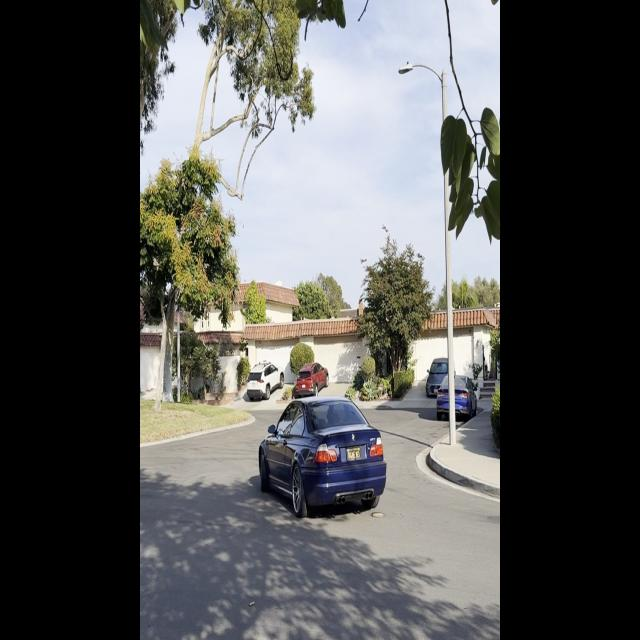Carbeetle: (253, 386, 394, 530)
Civilian: (432, 369, 479, 426), (245, 356, 286, 404), (425, 347, 456, 399), (294, 357, 331, 399)
